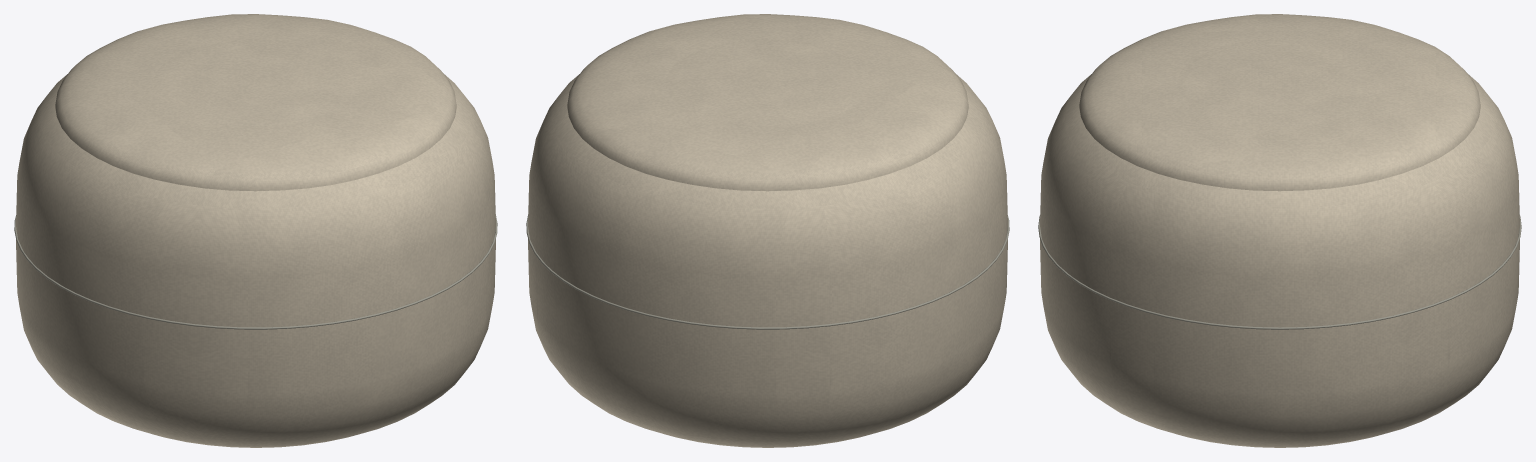
The picture shows the model from 3 angles, left to right: view 1: azimuth 30°, elevation 25°; view 2: azimuth 150°, elevation 25°; view 3: azimuth 270°, elevation 25°; orthographic projection.
Parts seen in each view (by area): view 1: Boucle | soft round pouf, Boucle | top crown, Boucle | equator seam; view 2: Boucle | soft round pouf, Boucle | top crown, Boucle | equator seam; view 3: Boucle | soft round pouf, Boucle | top crown, Boucle | equator seam.
Boxes of the visible parts, x1,y1,x2,y2 form: Boucle | soft round pouf: (16, 39, 495, 447); Boucle | top crown: (55, 14, 456, 191); Boucle | equator seam: (14, 214, 497, 329); Boucle | soft round pouf: (528, 39, 1007, 447); Boucle | top crown: (567, 14, 968, 191); Boucle | equator seam: (526, 214, 1009, 329); Boucle | soft round pouf: (1040, 39, 1519, 447); Boucle | top crown: (1079, 14, 1480, 191); Boucle | equator seam: (1038, 215, 1521, 329).
Bounding box in the file's own units: 0.7476 × 0.522 × 0.7476.
2 materials, 1 textured.
